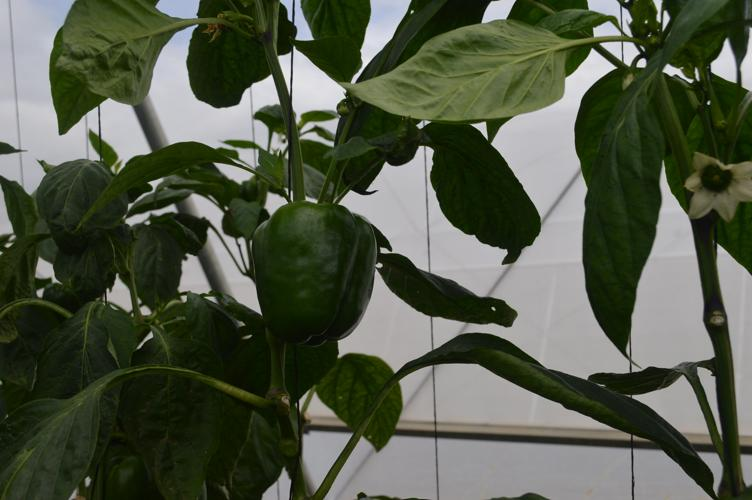BellPepper: (254, 203, 378, 341)
